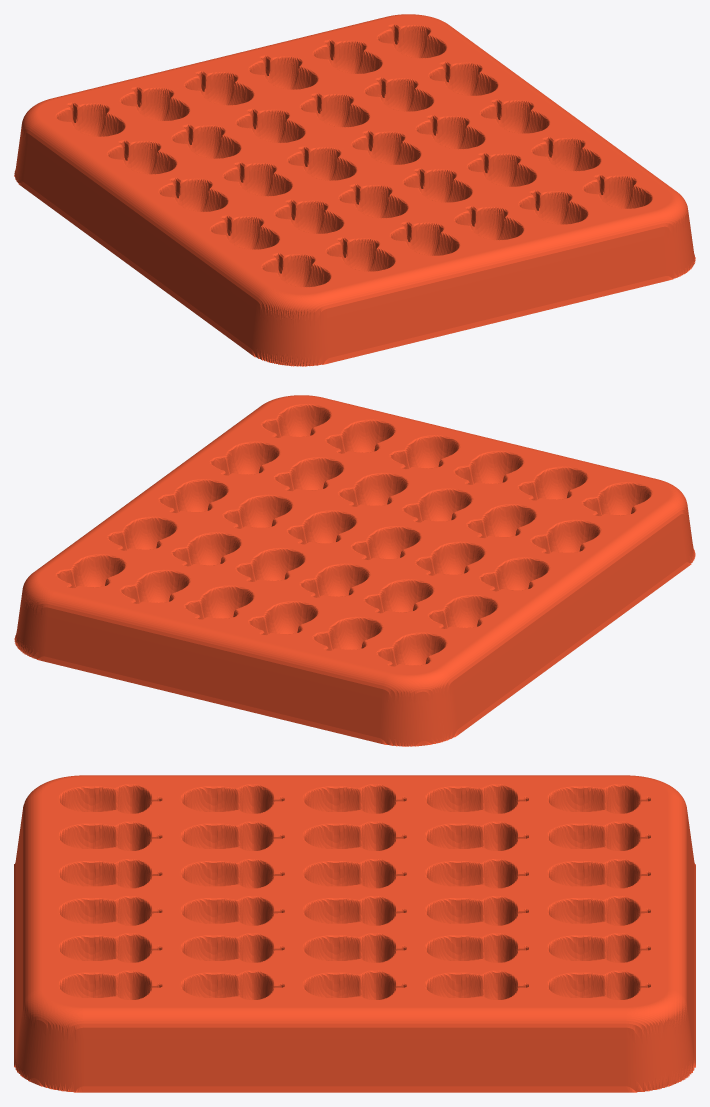
File: mold.glb
3 renders of one model, top to bottom at view 1: azimuth 30°, elevation 25°; view 2: azimuth 150°, elevation 25°; view 3: azimuth 270°, elevation 25°, orthographic. The views are drawn at different scales.
Visible parts, largest first — view 1: geometry_0; view 2: geometry_0; view 3: geometry_0.
Part boxes in pixels (box(x1,y1,x2,y2)): geometry_0: box(14, 14, 695, 366); geometry_0: box(14, 395, 695, 746); geometry_0: box(14, 775, 695, 1092).
Bounding box in the file's own units: 0.0776 × 0.0105 × 0.0882.
